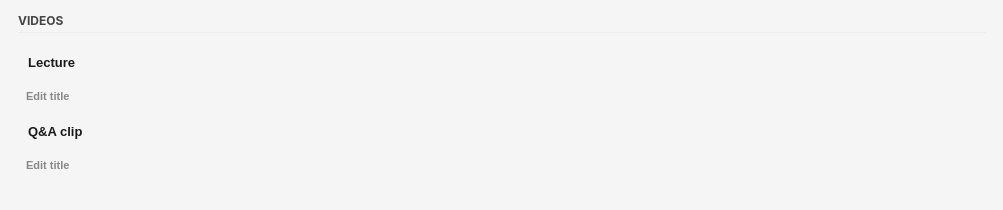
Test: MaterialsTreePanel SCRUM-295 video-row Make-primary affordance › right-click on a non-primary additional video row also opens Make-primary menu
Right-click the element with test id "video-item" at x=502, y=126, box [18,106,986,147]
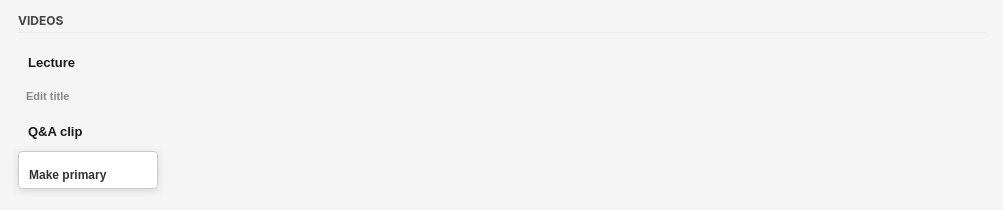
Expected: the menu item with test id "make-primary-btn" is shown, [19,162,157,188]
